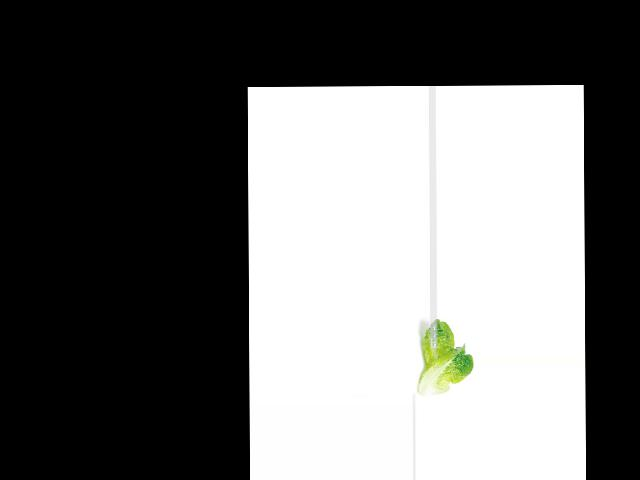lettuce: (420, 316, 474, 398)
